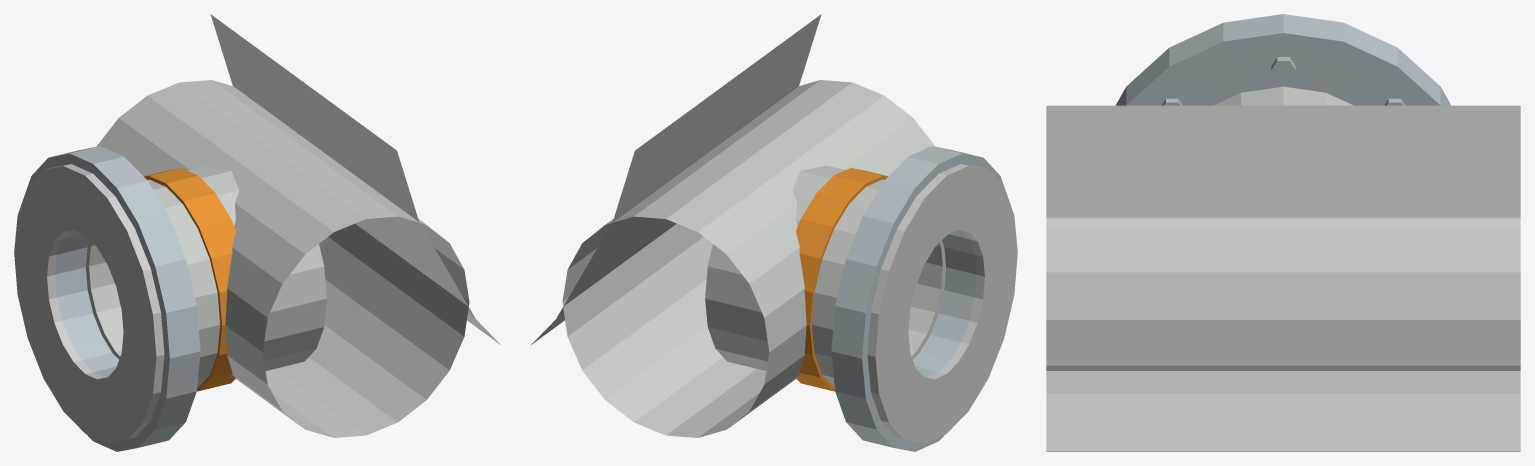
File: cell_65.obj
3 views of the same model, side by side, from view 1: azimuth 30°, elevation 25°; view 2: azimuth 150°, elevation 25°; view 3: azimuth 270°, elevation 25° (orthographic). The views are drawn at different scales.
Bounding box in the file's own units: 1 × 0.91 × 1.
